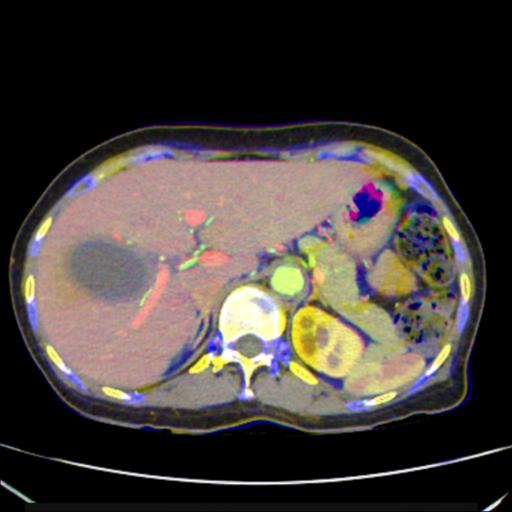Abscess: (69, 239, 149, 302)
